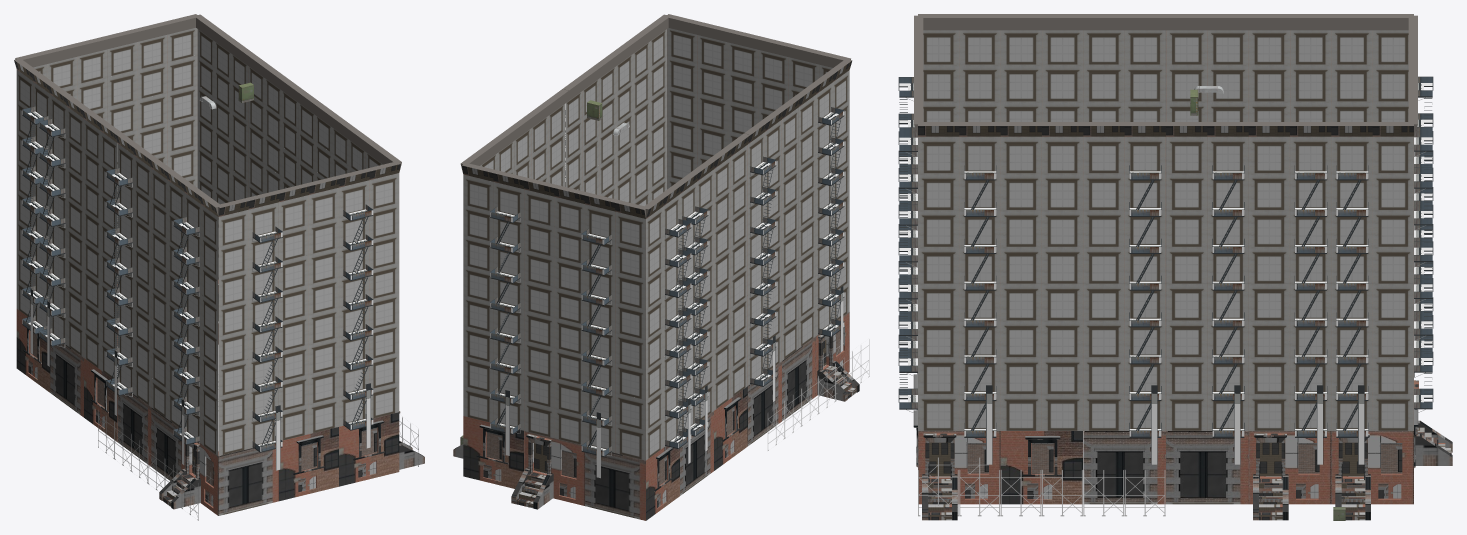
The model's file is proc3_07.gltf.
The picture shows the model from 3 angles, left to right: view 1: azimuth 30°, elevation 25°; view 2: azimuth 150°, elevation 25°; view 3: azimuth 270°, elevation 25°; orthographic projection. The views are drawn at different scales.
Visible parts, largest first — view 1: proc3_07; view 2: proc3_07; view 3: proc3_07.
Boxes of the visible parts, x1,y1,x2,y2 form: proc3_07: [14, 14, 424, 520]; proc3_07: [453, 14, 869, 520]; proc3_07: [898, 14, 1452, 520].
Size of the model in its own units: 25.08 by 31.53 by 40.98.
6 materials, 6 textured.
